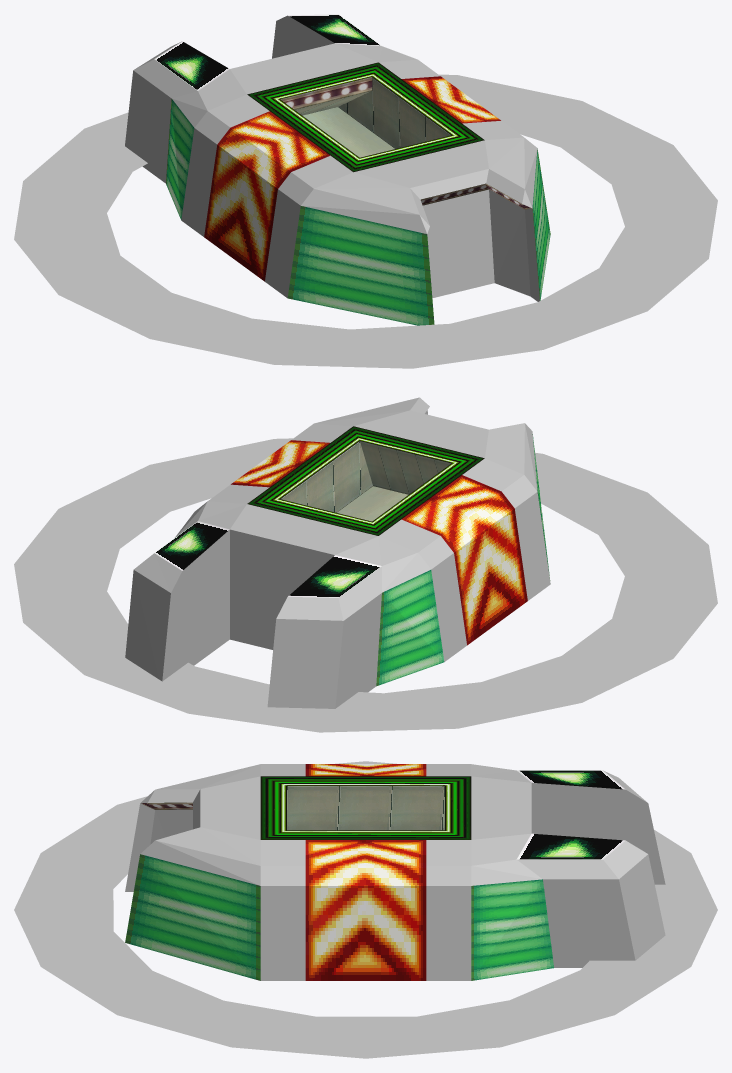
The model's file is slot_small_on.obj.
3 renders of one model, top to bottom at view 1: azimuth 30°, elevation 25°; view 2: azimuth 150°, elevation 25°; view 3: azimuth 270°, elevation 25°, orthographic.
Parts seen in each view (by area): view 1: obj4, Object_1, obj1, obj3; view 2: obj4, obj1, Object_1, obj3; view 3: obj4, Object_1, obj1, obj3.
Part boxes in pixels (x1,y1,x2,y2): obj4: (14,74,717,368); Object_1: (154,14,550,325); obj1: (125,41,537,297); obj3: (204,76,500,281); obj4: (14,438,717,732); obj1: (125,397,550,708); Object_1: (154,410,550,686); obj3: (231,440,527,645); obj4: (14,761,717,1058); Object_1: (125,770,665,980); obj1: (140,764,665,980); obj3: (305,764,426,980).
Size of the model in its own units: 117 by 20 by 117.
